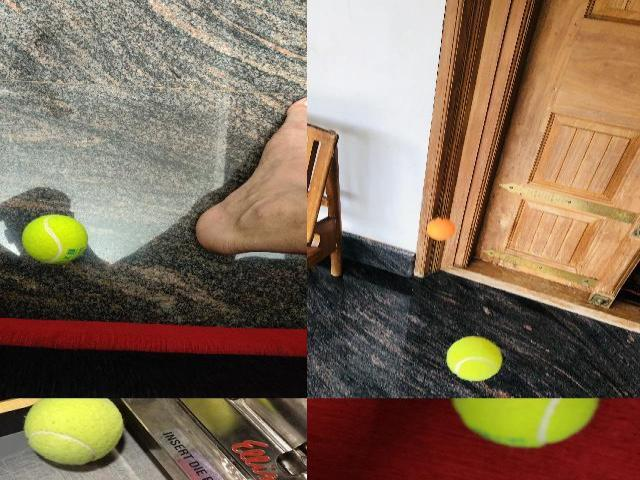tennis-ball: (448, 398, 600, 449), (24, 398, 125, 466), (22, 214, 88, 264), (446, 337, 502, 380)
